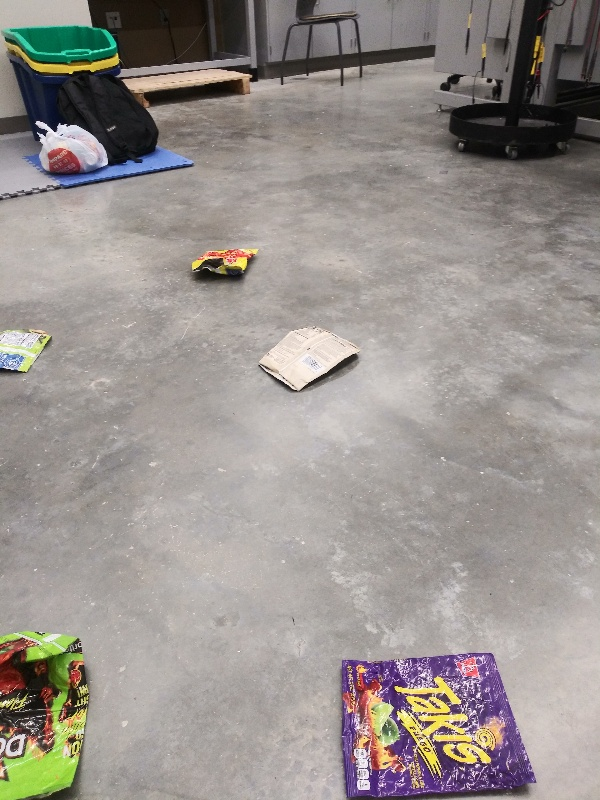bag: (327, 644, 537, 794), (1, 628, 96, 800), (257, 320, 366, 393), (1, 319, 57, 377), (187, 240, 262, 279)
